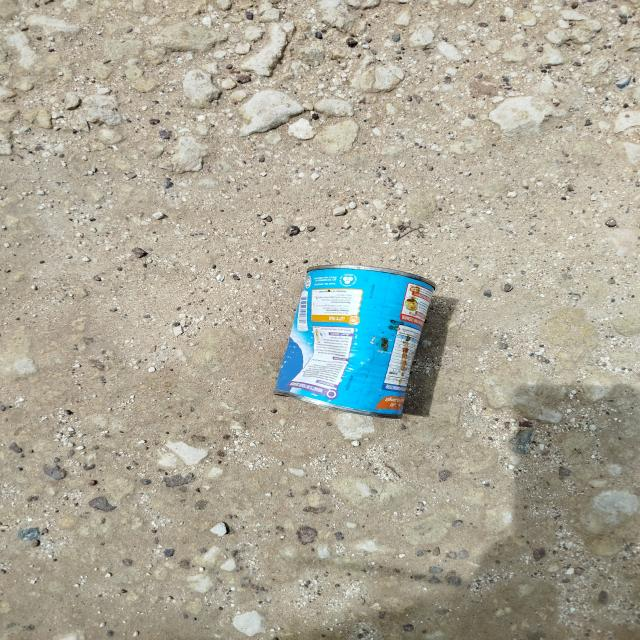metal: (269, 248, 453, 435)
